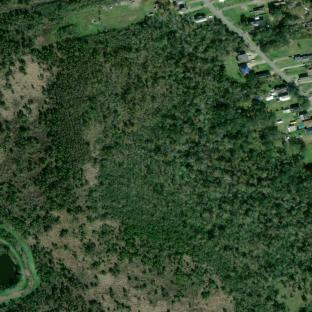Floresta: (35, 12, 312, 312), (0, 241, 91, 312), (0, 5, 43, 73), (251, 13, 312, 52)
